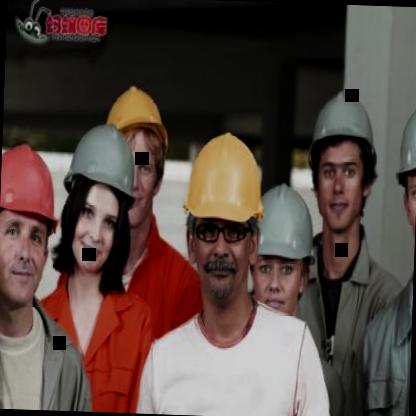helmet: (182, 130, 266, 304), (59, 120, 138, 280), (304, 90, 382, 232), (0, 137, 59, 316), (249, 180, 321, 321), (102, 84, 170, 228), (393, 95, 416, 267)
